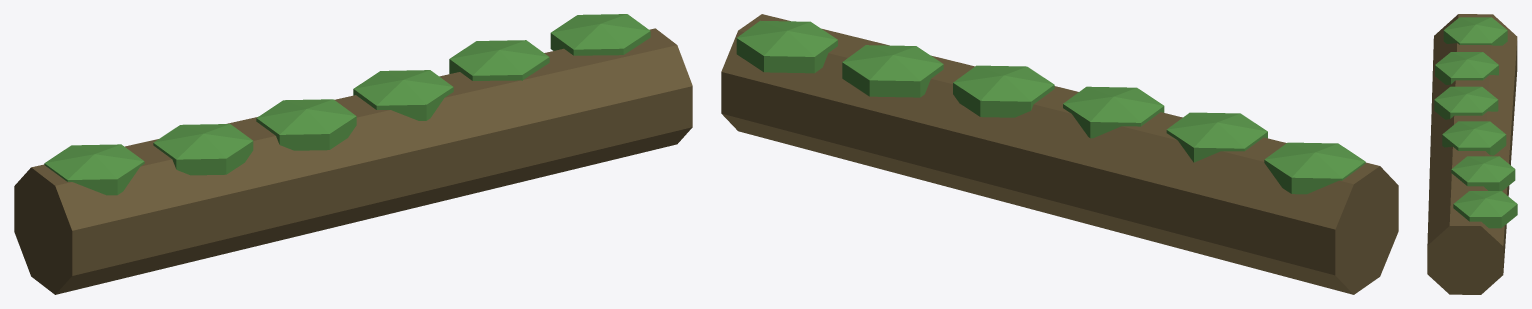
Rendered from log_mossy.glb.
The picture shows the model from 3 angles, left to right: view 1: azimuth 30°, elevation 25°; view 2: azimuth 150°, elevation 25°; view 3: azimuth 270°, elevation 25°; orthographic projection. The views are drawn at different scales.
Parts seen in each view (by area): view 1: log_mossy; view 2: log_mossy; view 3: log_mossy.
Boxes of the visible parts, <box> form: log_mossy: <box>14,14,692,294</box>; log_mossy: <box>721,14,1398,294</box>; log_mossy: <box>1427,14,1517,294</box>.
Bounding box in the file's own units: 2.41 × 0.4433 × 0.4386.
